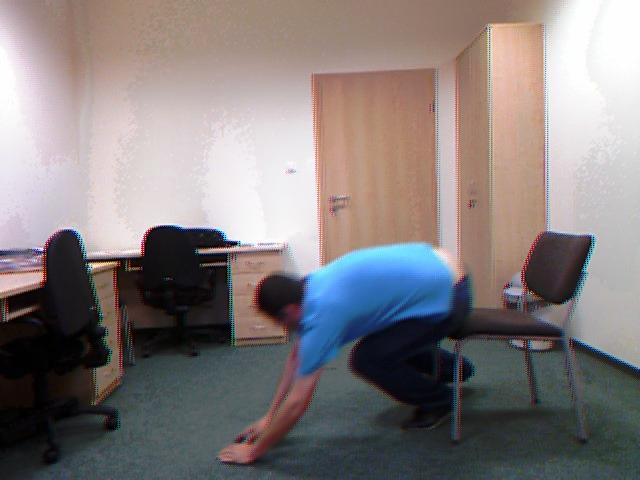fall: (219, 243, 471, 463)
